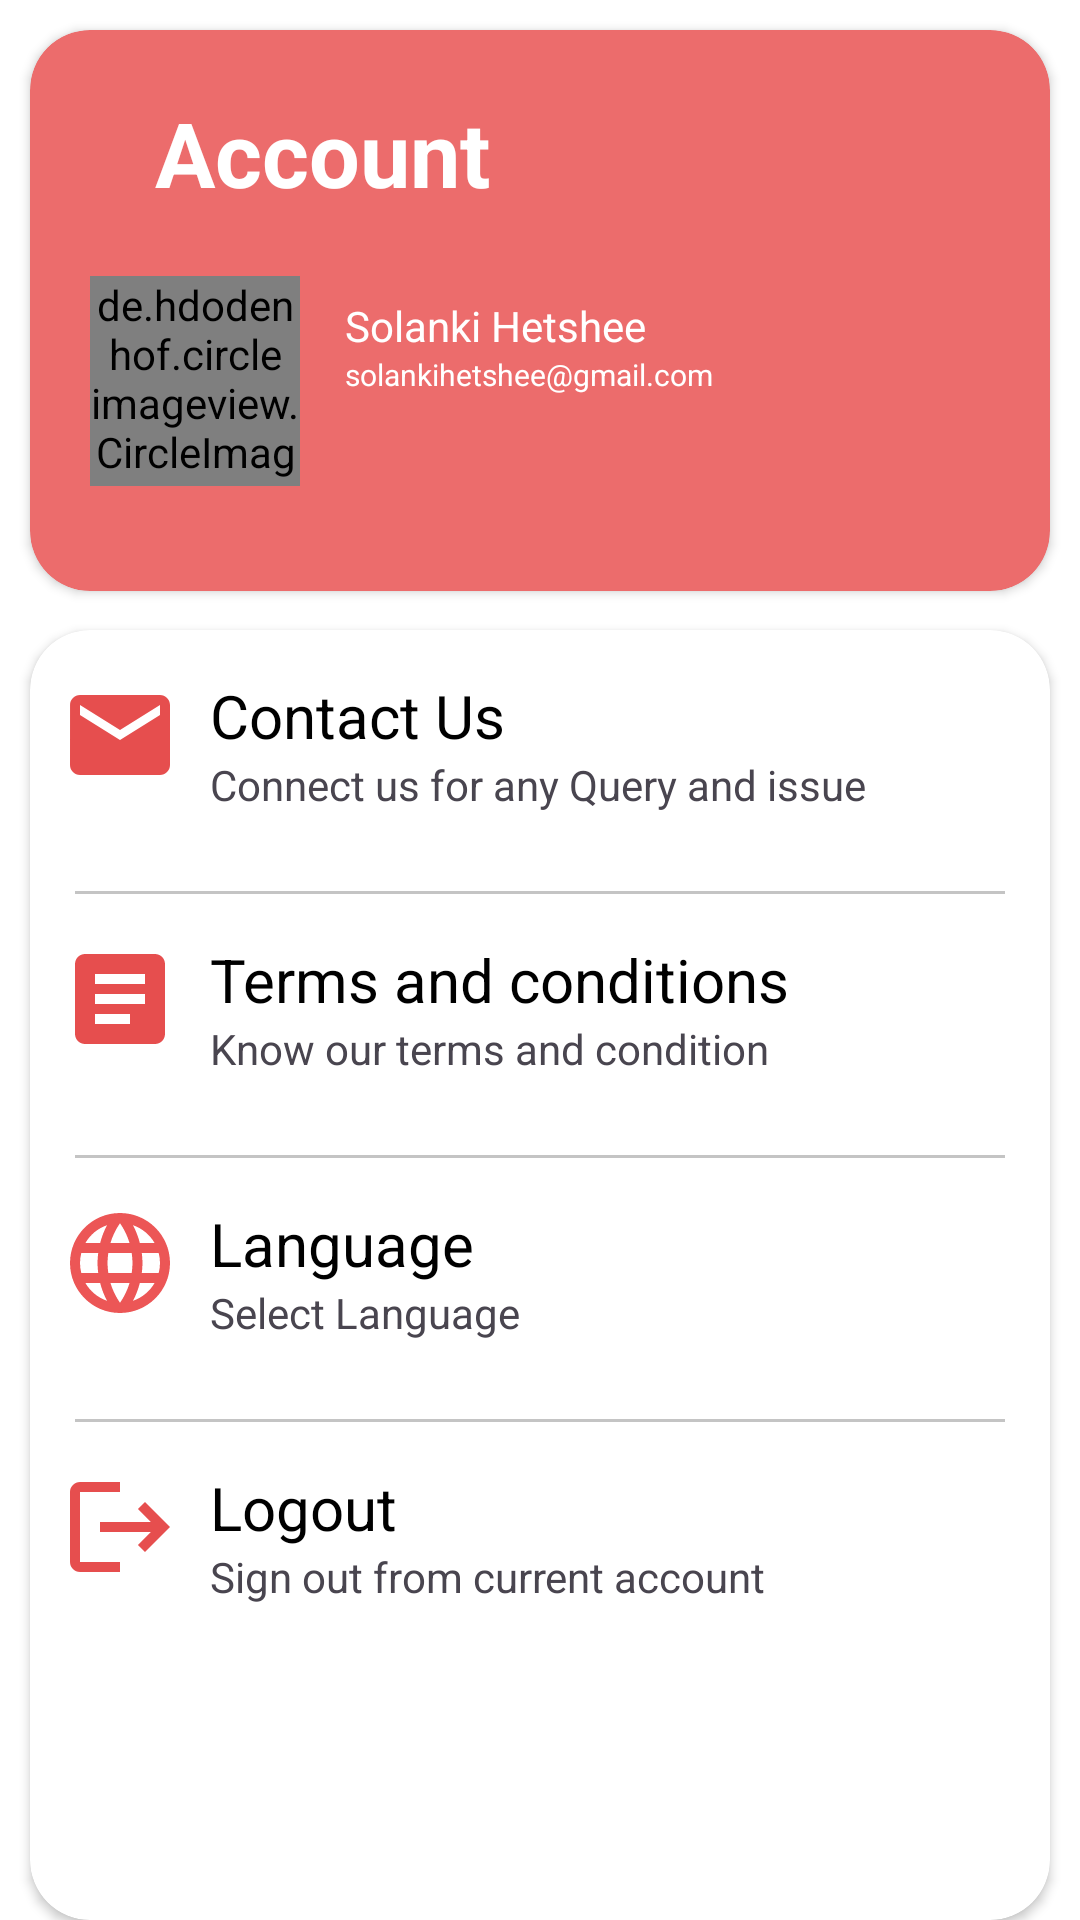

Point at icon controls on the screen. Image size 1080w x 1920h, points as (x,y).
article: (120,999)
email: (120,735)
